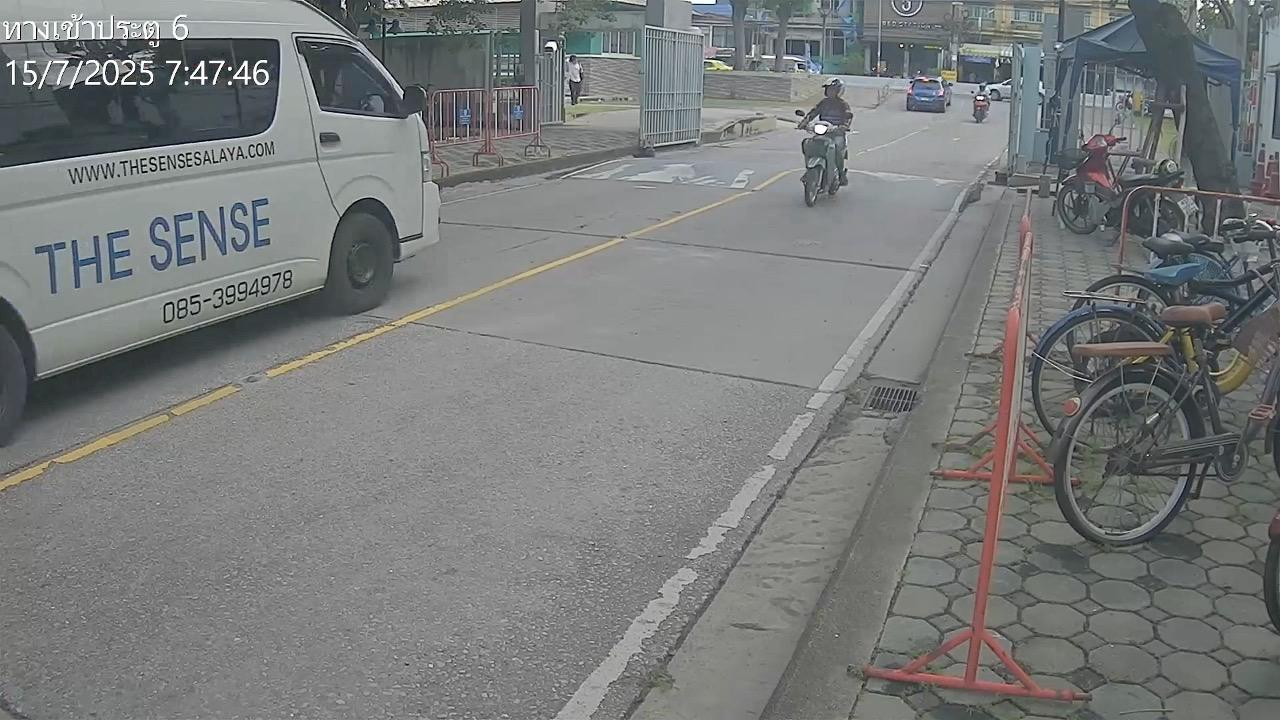With-Helmet: (823, 77, 847, 99)
